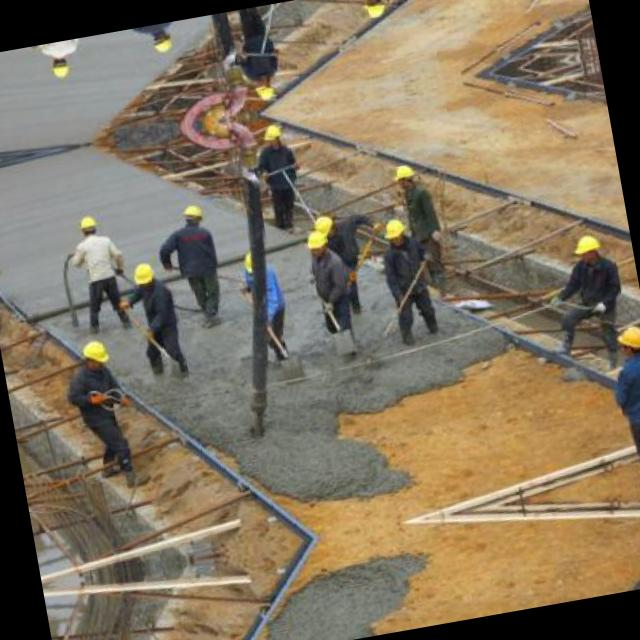helmet: (76, 335, 111, 376), (572, 226, 604, 264), (611, 322, 640, 362), (126, 258, 158, 292), (302, 229, 331, 259), (392, 160, 419, 192), (380, 217, 407, 247), (180, 200, 206, 231), (148, 25, 174, 56), (312, 211, 338, 239), (48, 55, 72, 84), (258, 120, 282, 148), (250, 78, 274, 106), (75, 209, 98, 238), (361, 0, 389, 20)
